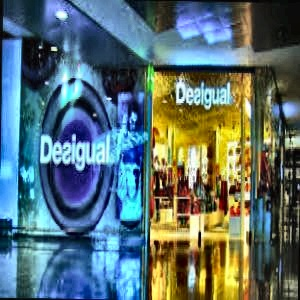desigual: (128, 40, 300, 122), (95, 65, 133, 195)
